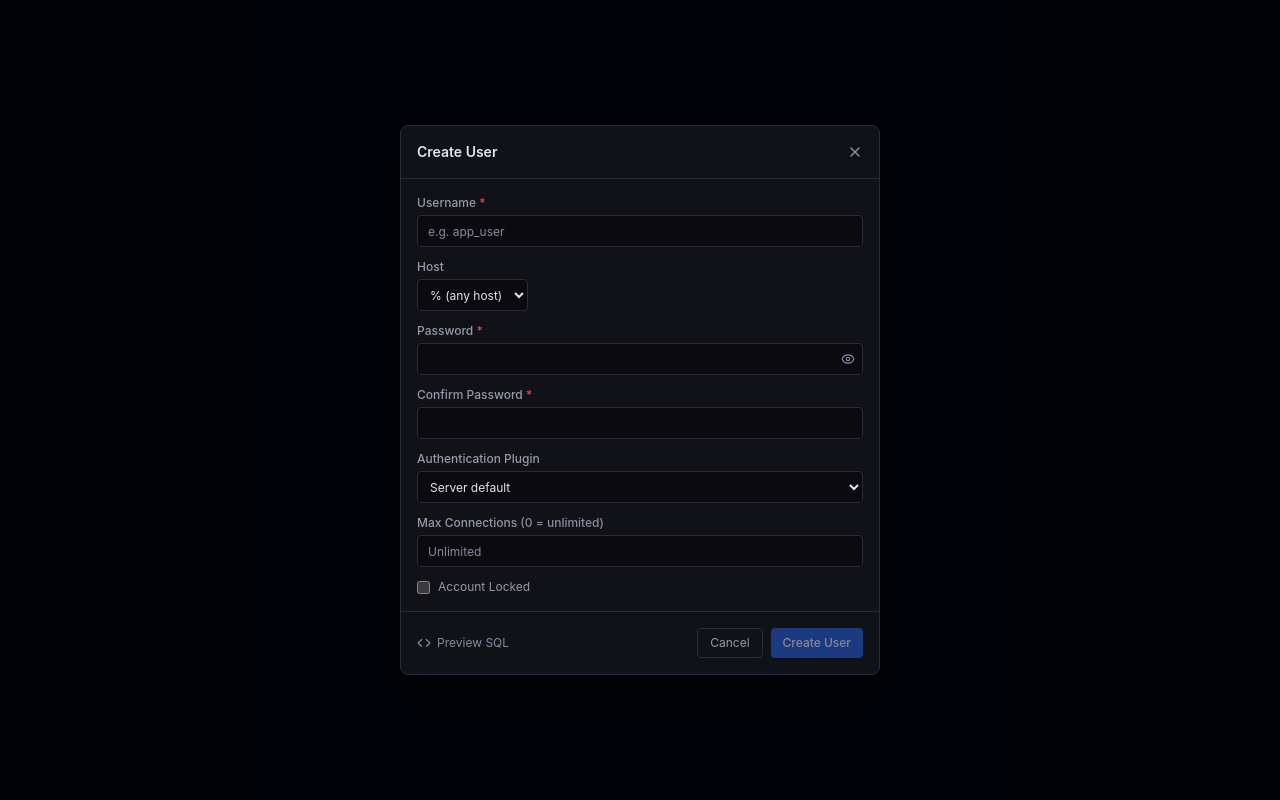
Test: CreateUserDialog › shows error on creation failure
The image size is (1280, 800).
In the field with placeholder "e.g. app_user": {"x": 640, "y": 231} [417,215,863,247], type "existing"
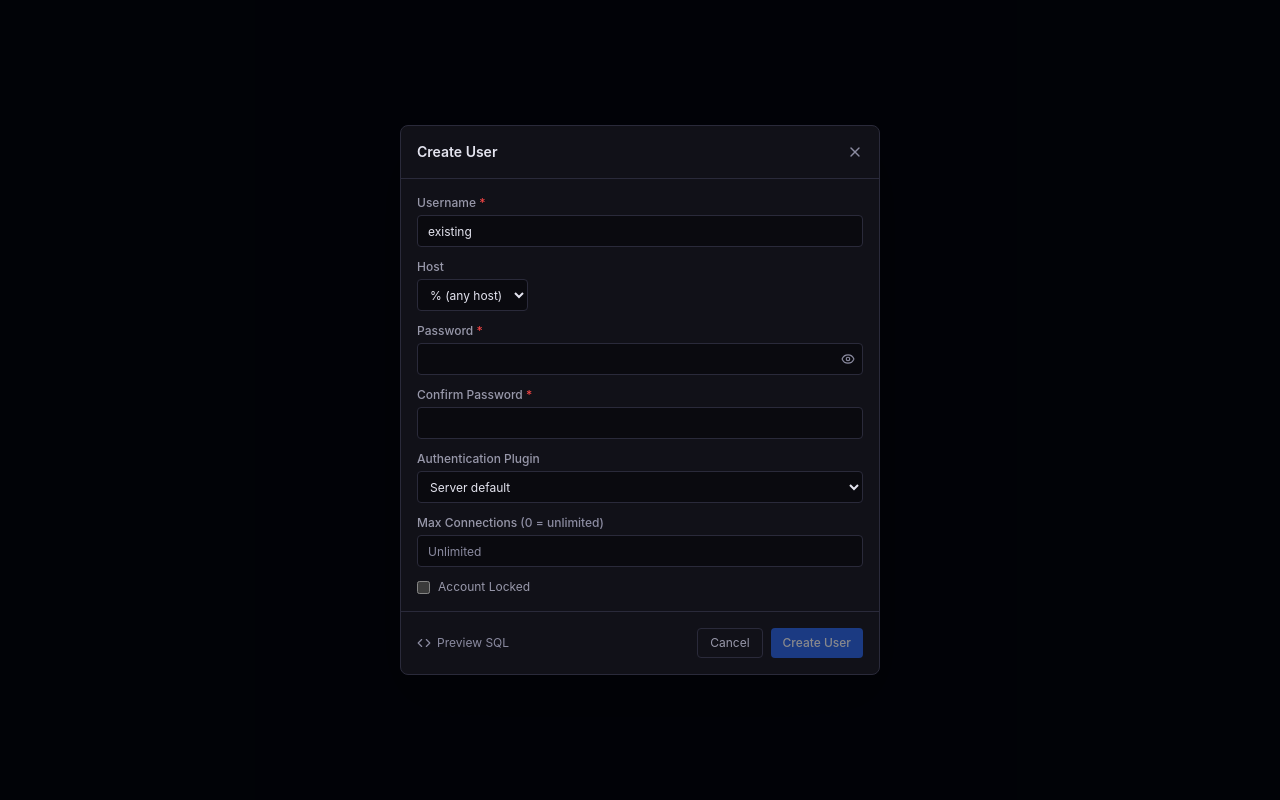
In the 1st password field: {"x": 640, "y": 359} [417,343,863,375], type "pass123"
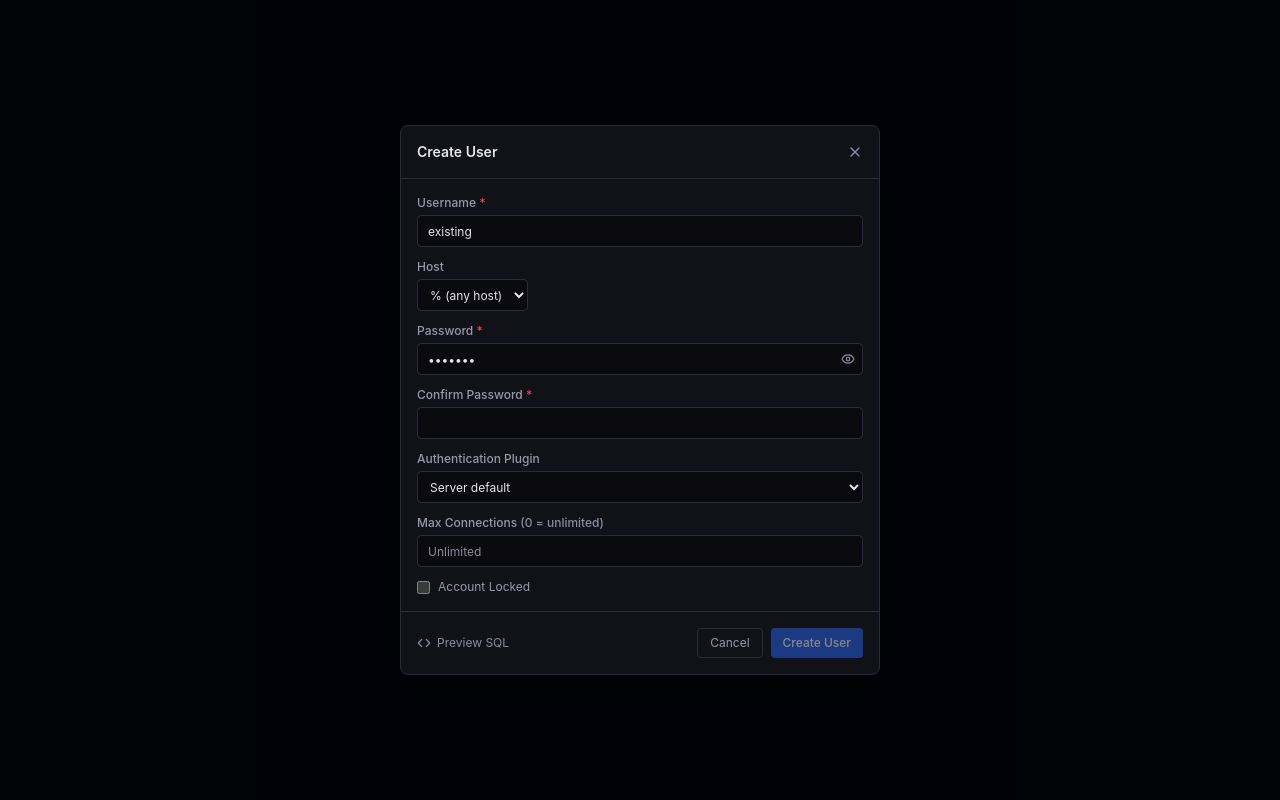
In the password field below "Confirm Password": {"x": 640, "y": 423} [417,407,863,439], type "pass123"
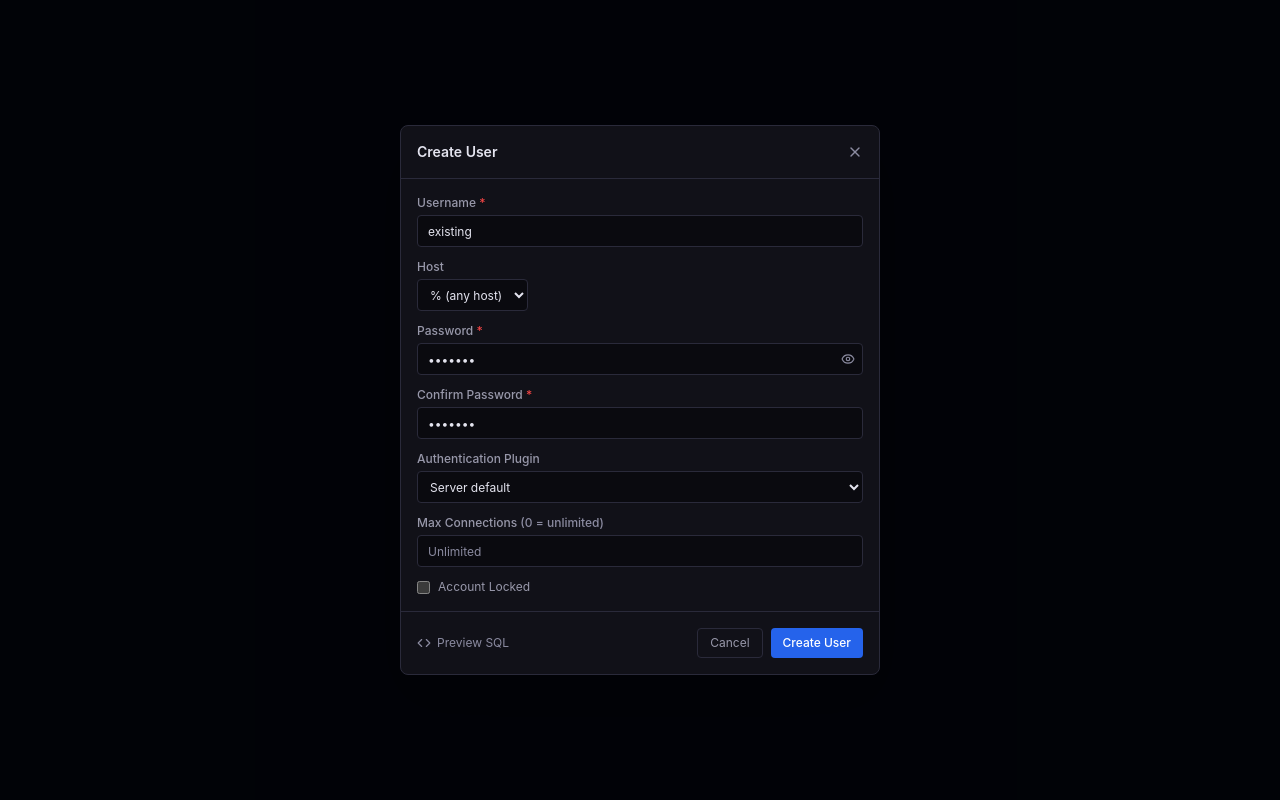
Click the button "Create User": {"x": 817, "y": 643} [770,628,863,658]
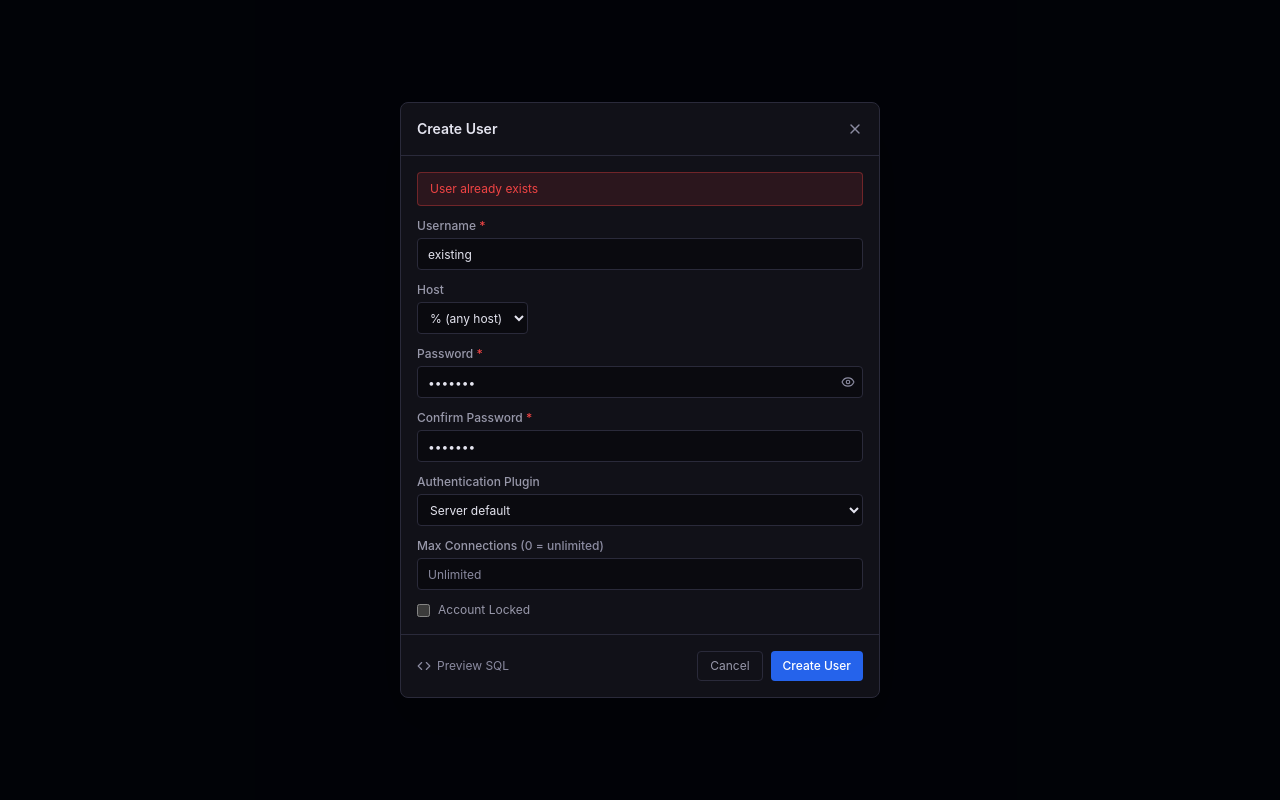
Expected: the text "User already exists" is shown, [417,172,863,206]
